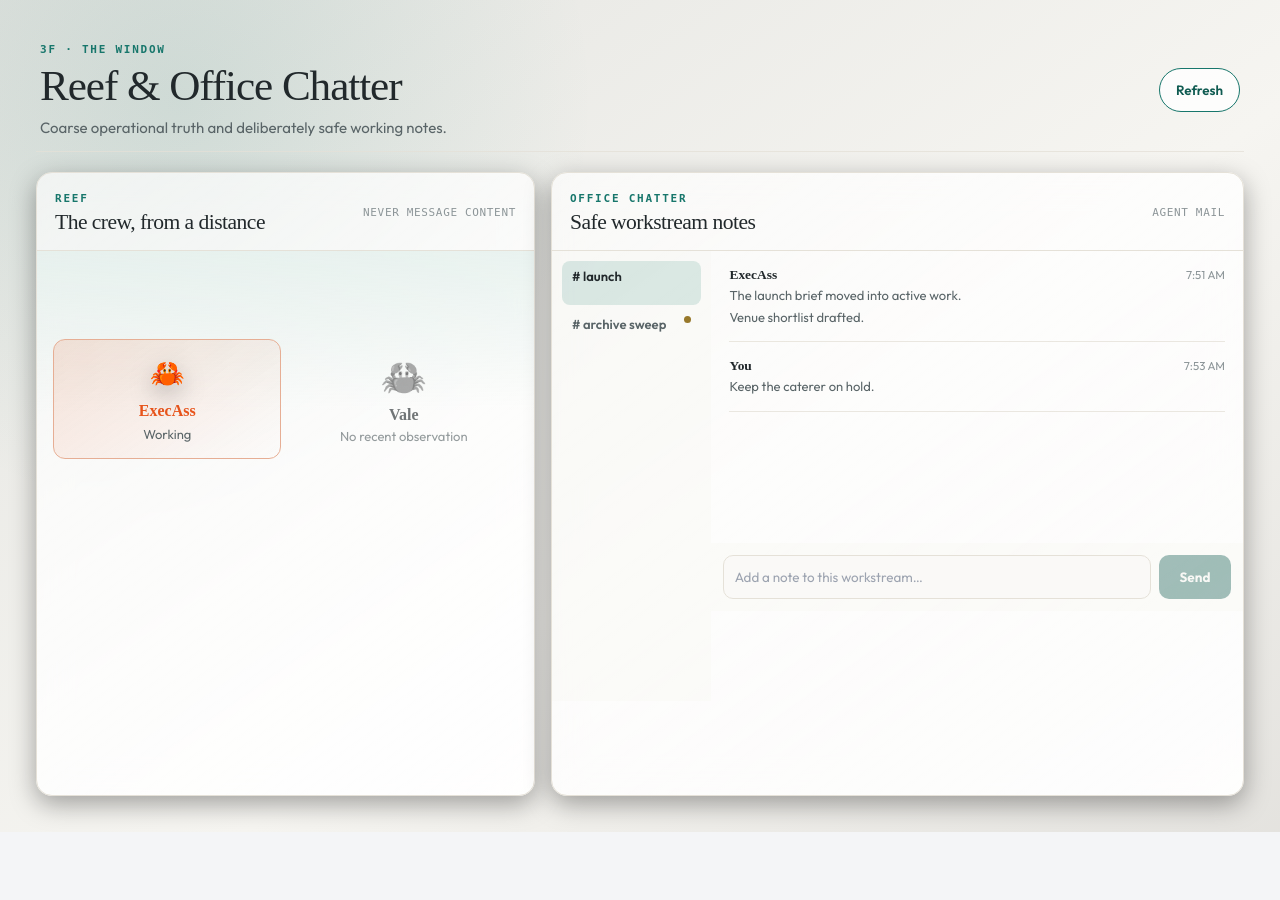
Test case: Reef report cards › says so honestly when the deep-link room is switched off
Click the button "🦀 ExecAss Working": (167, 398) [53,338,282,458]
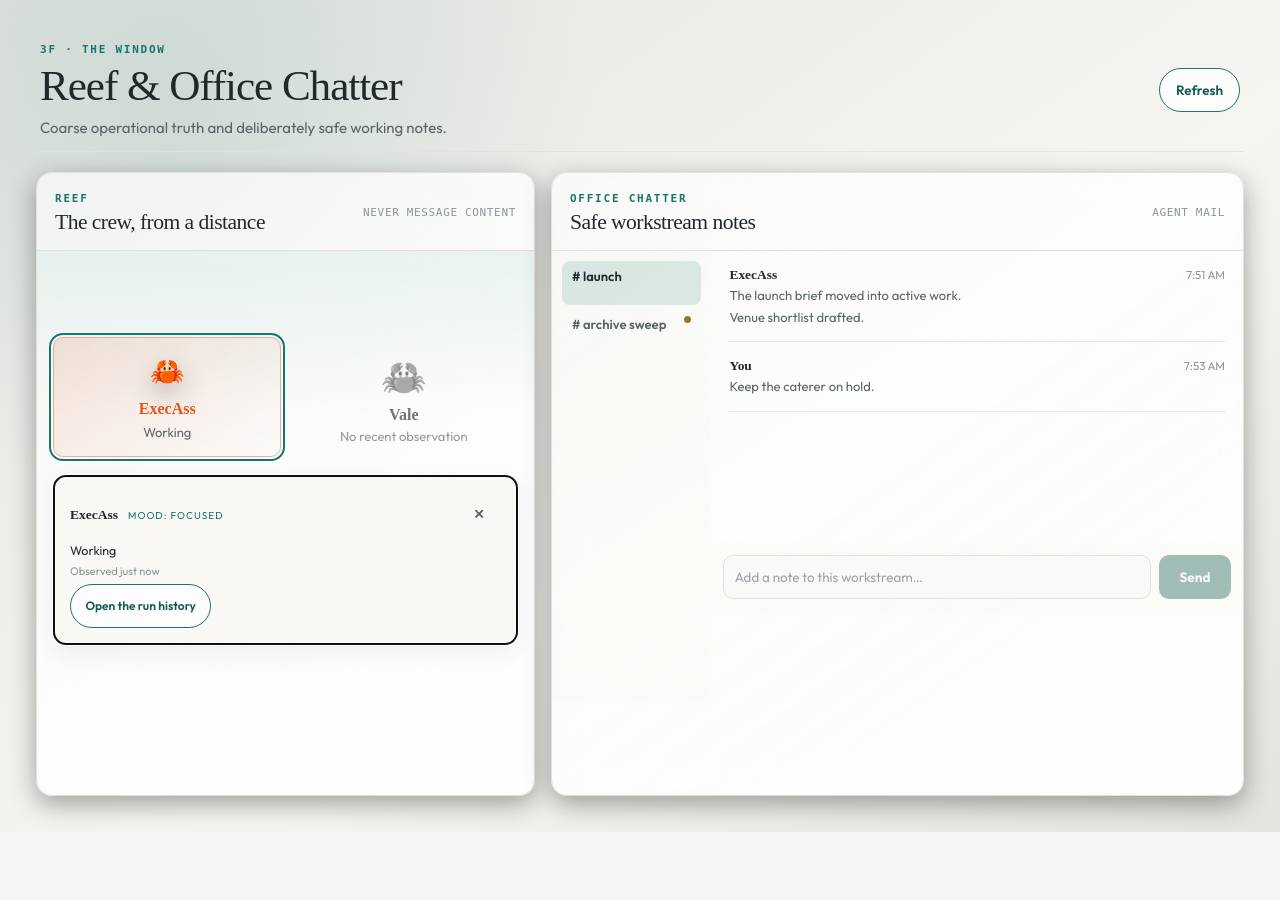
Click the button "Open the run history": (141, 606) [70,584,211,628]
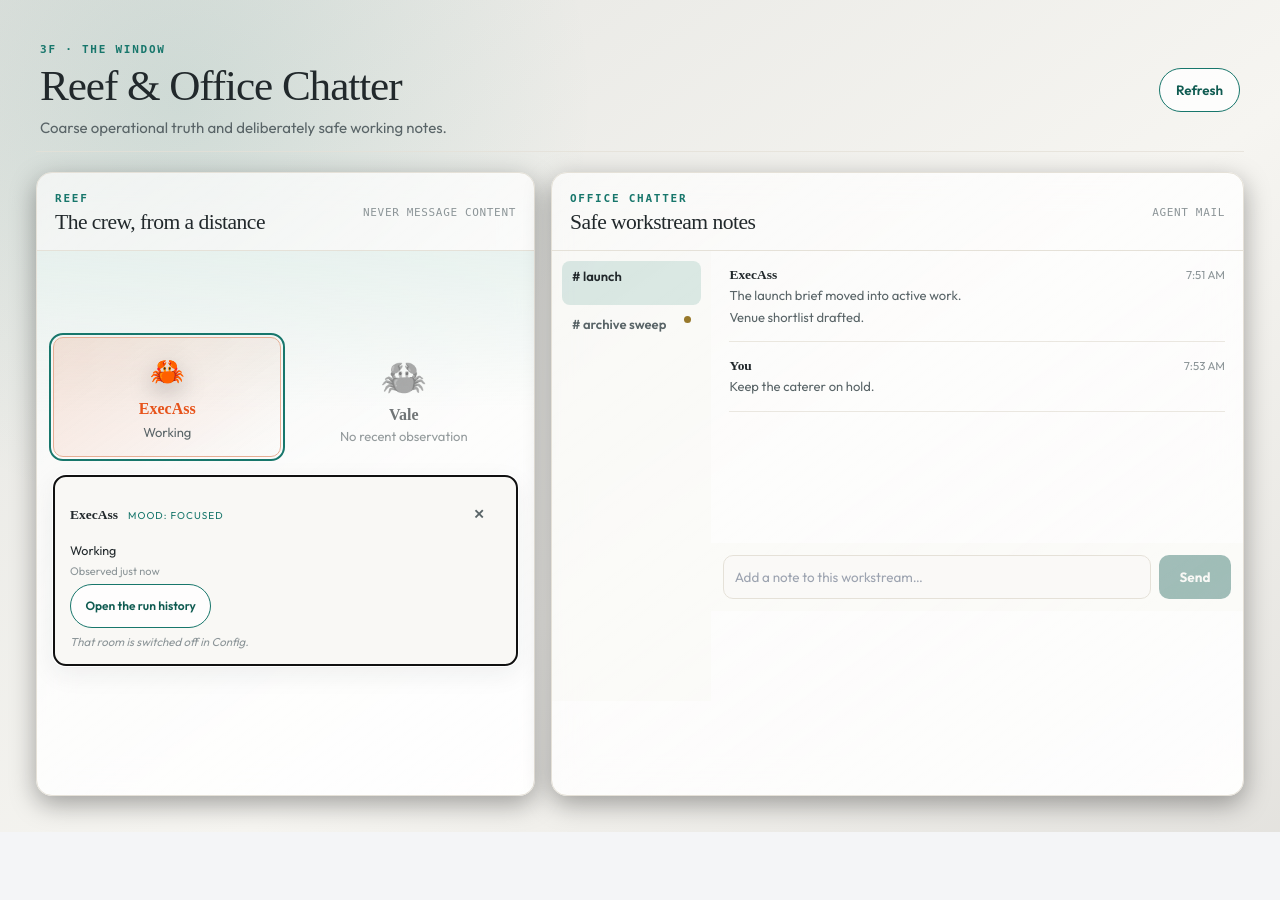
Expected: the element with test id "reef-report-card" shows "switched off in Config", [70,634,248,648]
